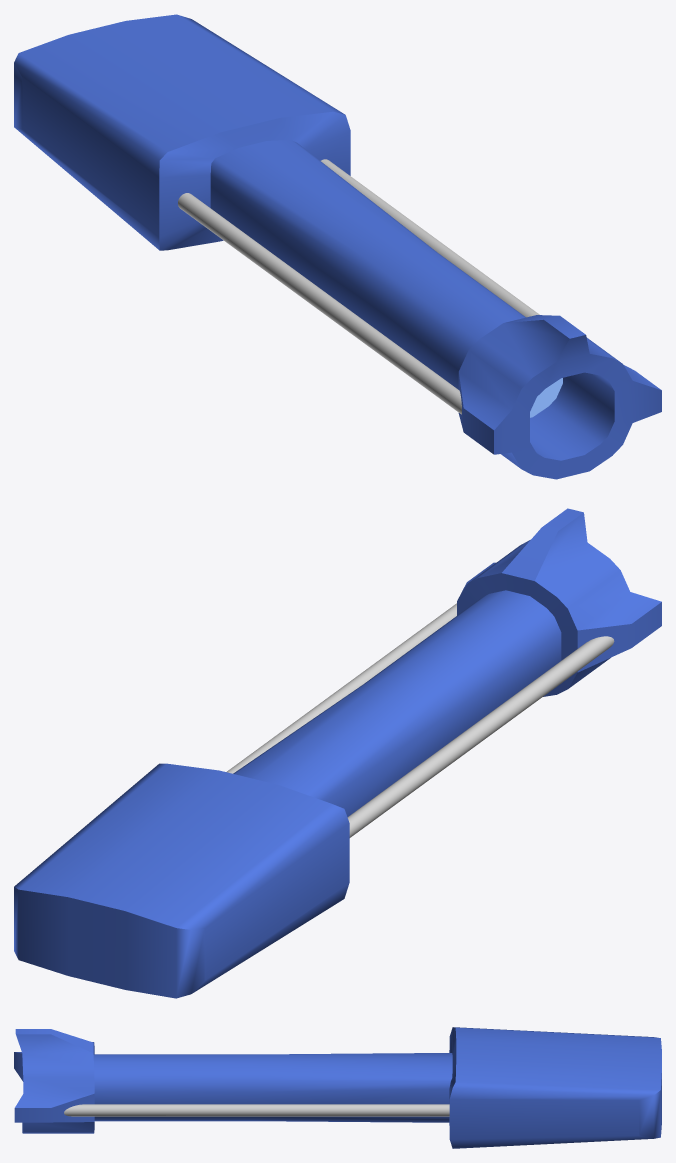
Rendered from PolyTank_Turret_static.fbx.
3 renders of one model, top to bottom at view 1: azimuth 30°, elevation 25°; view 2: azimuth 150°, elevation 25°; view 3: azimuth 270°, elevation 25°, orthographic. The views are drawn at different scales.
Visible parts, largest first — view 1: TurretBody; view 2: TurretBody; view 3: TurretBody.
Part boxes in pixels (x1,y1,x2,y2): TurretBody: (14, 14, 661, 479); TurretBody: (14, 508, 661, 998); TurretBody: (14, 1027, 661, 1148).
Bounding box in the file's own units: 67.36 × 294 × 47.76.
